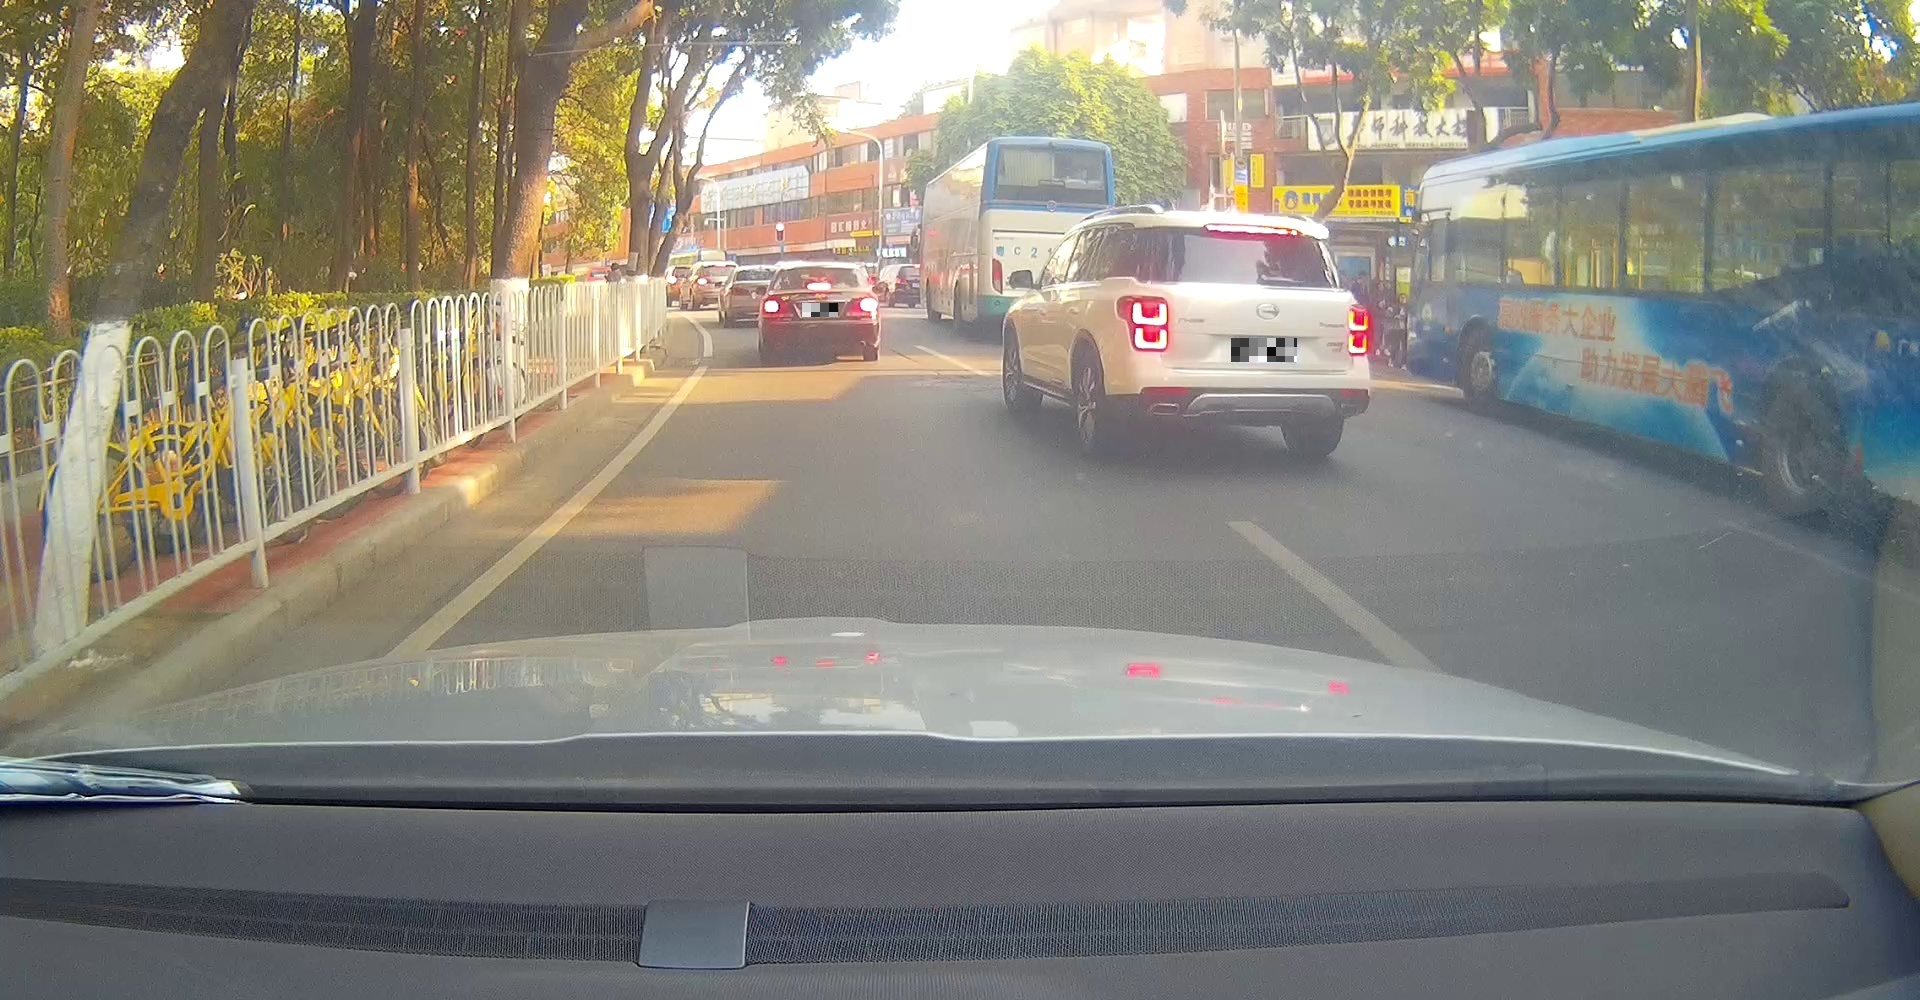L_light: (1114, 293, 1170, 352), (758, 294, 792, 319)
R_light: (1345, 302, 1370, 357), (844, 294, 877, 317)
T_light: (1203, 222, 1302, 237), (805, 282, 832, 292)
day-brake: (1107, 212, 1371, 458), (757, 261, 879, 360)
plate_1: (803, 303, 838, 317)
plate_2: (1230, 338, 1297, 362)
